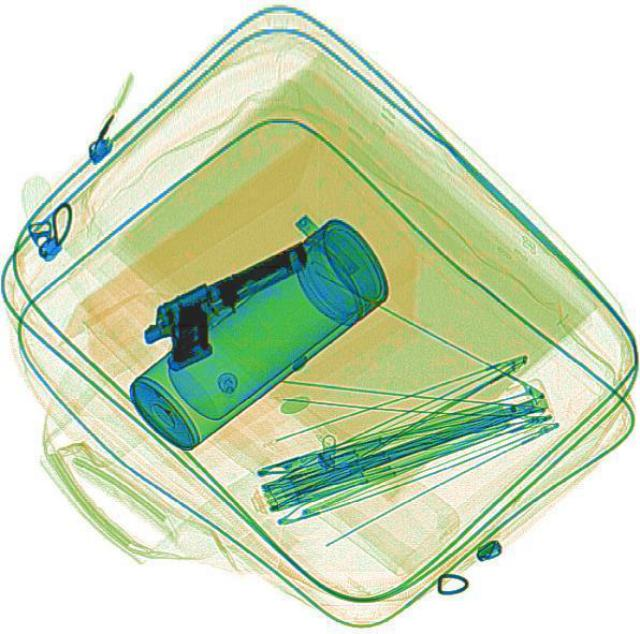Gun: (127, 235, 330, 373)
